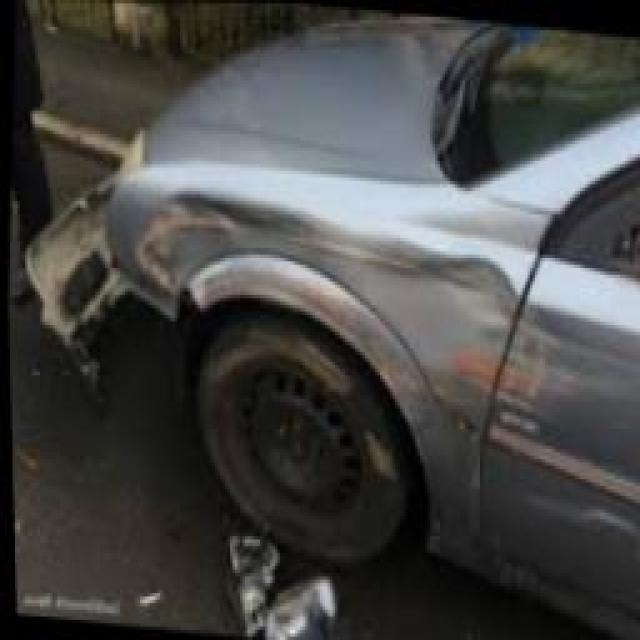Bumper: (20, 164, 179, 374)
Fender: (101, 180, 529, 574)
